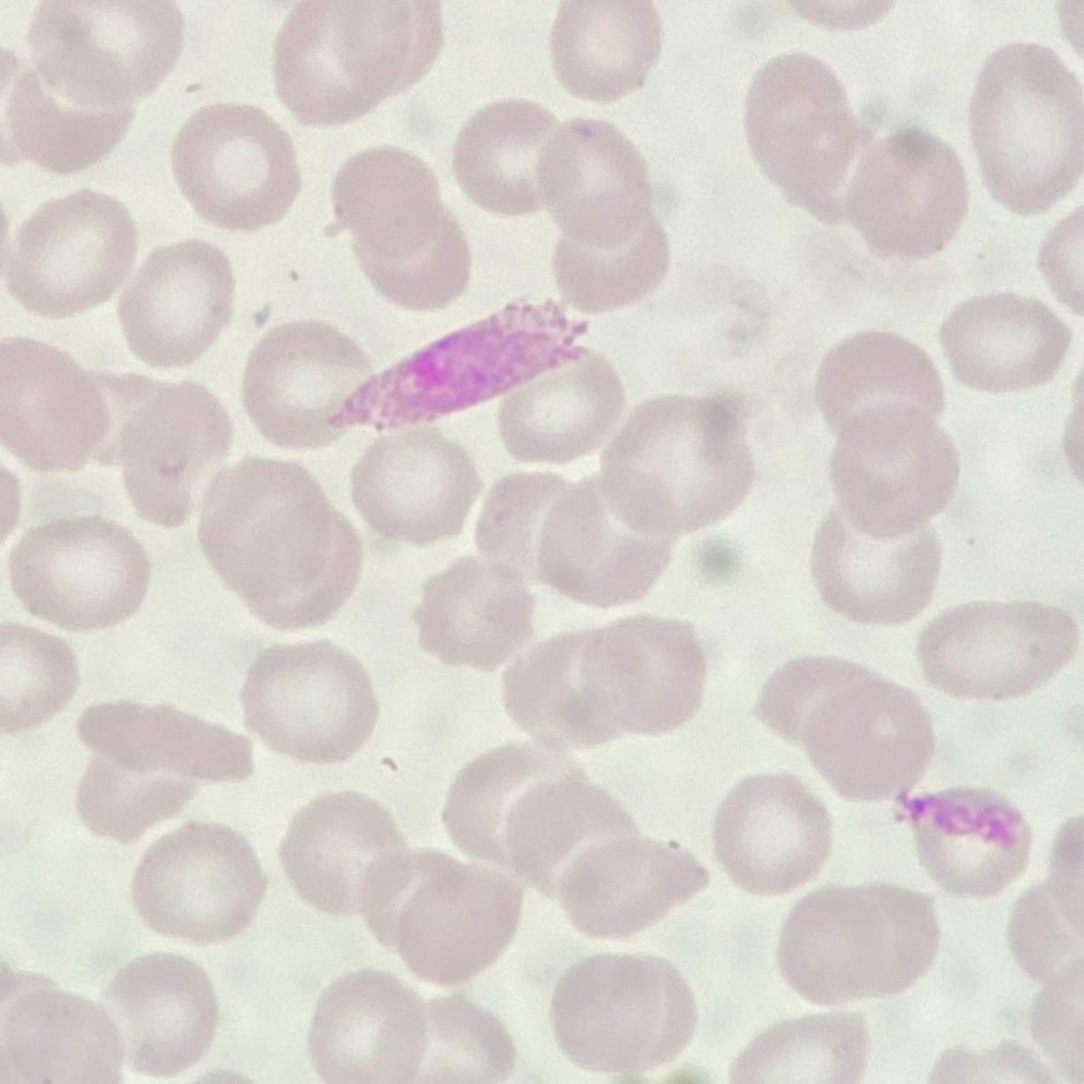Infected: (328, 300, 594, 428)
Uninfected: (437, 732, 593, 873), (968, 38, 1084, 222), (605, 393, 756, 529), (541, 470, 681, 609), (195, 457, 332, 598), (275, 0, 422, 130), (505, 767, 648, 894), (20, 0, 186, 107), (9, 187, 144, 318), (835, 402, 963, 540), (126, 820, 270, 942), (242, 636, 380, 763), (73, 698, 256, 793), (242, 320, 374, 451), (811, 497, 947, 621), (7, 515, 153, 630), (561, 829, 715, 938), (922, 597, 1080, 703), (168, 100, 300, 226), (818, 328, 951, 453), (744, 55, 850, 210), (773, 873, 894, 1007), (709, 769, 834, 896), (810, 678, 938, 802), (537, 116, 651, 254), (408, 552, 539, 672), (496, 348, 628, 467), (505, 632, 633, 754), (0, 331, 112, 469), (552, 951, 674, 1077), (97, 951, 224, 1071), (470, 472, 598, 591), (284, 792, 413, 910), (306, 964, 431, 1084), (355, 424, 477, 545), (583, 614, 704, 736), (940, 291, 1073, 400), (124, 242, 234, 371), (332, 142, 452, 260), (452, 100, 564, 221), (915, 792, 1038, 901), (860, 136, 967, 261), (550, 204, 671, 314), (377, 991, 516, 1084), (727, 1004, 873, 1084), (550, 0, 663, 100), (357, 842, 452, 951)
